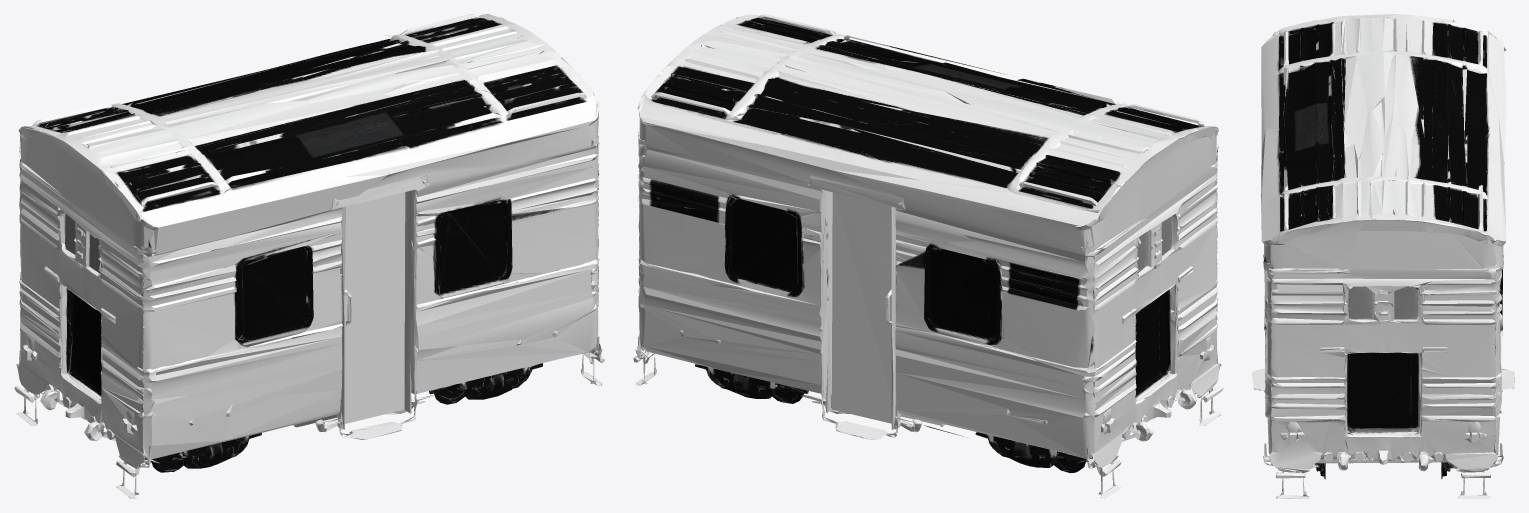
File: subway.glb
3 views of the same model, side by side, from view 1: azimuth 30°, elevation 25°; view 2: azimuth 150°, elevation 25°; view 3: azimuth 270°, elevation 25° (orthographic). The views are drawn at different scales.
Size of the model in its own units: 1.9 by 1.16 by 0.96.
1 material, 1 textured.
